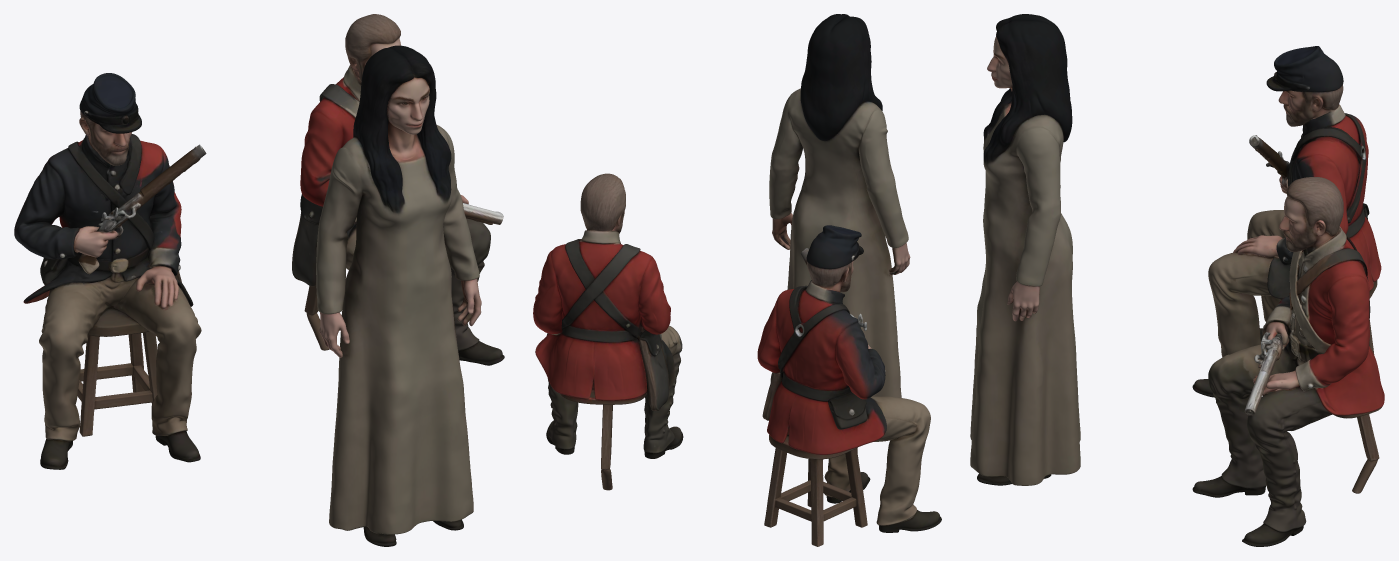
Rendered from 50-la-mujer-del-puente-optimized.glb.
3 renders of one model, left to right at view 1: azimuth 30°, elevation 25°; view 2: azimuth 150°, elevation 25°; view 3: azimuth 270°, elevation 25°, orthographic. The views are drawn at different scales.
Parts seen in each view (by area): view 1: tripo_node_7d677792-6692-4b84-9664-aa1eb5e94650; view 2: tripo_node_7d677792-6692-4b84-9664-aa1eb5e94650; view 3: tripo_node_7d677792-6692-4b84-9664-aa1eb5e94650.
Boxes of the visible parts, bbox=[...] form: tripo_node_7d677792-6692-4b84-9664-aa1eb5e94650: bbox=[14, 14, 504, 546]; tripo_node_7d677792-6692-4b84-9664-aa1eb5e94650: bbox=[533, 14, 941, 546]; tripo_node_7d677792-6692-4b84-9664-aa1eb5e94650: bbox=[970, 14, 1384, 546].
Size of the model in its own units: 1 by 0.9772 by 0.8221.
Materials: 1 (1 with a texture image).
